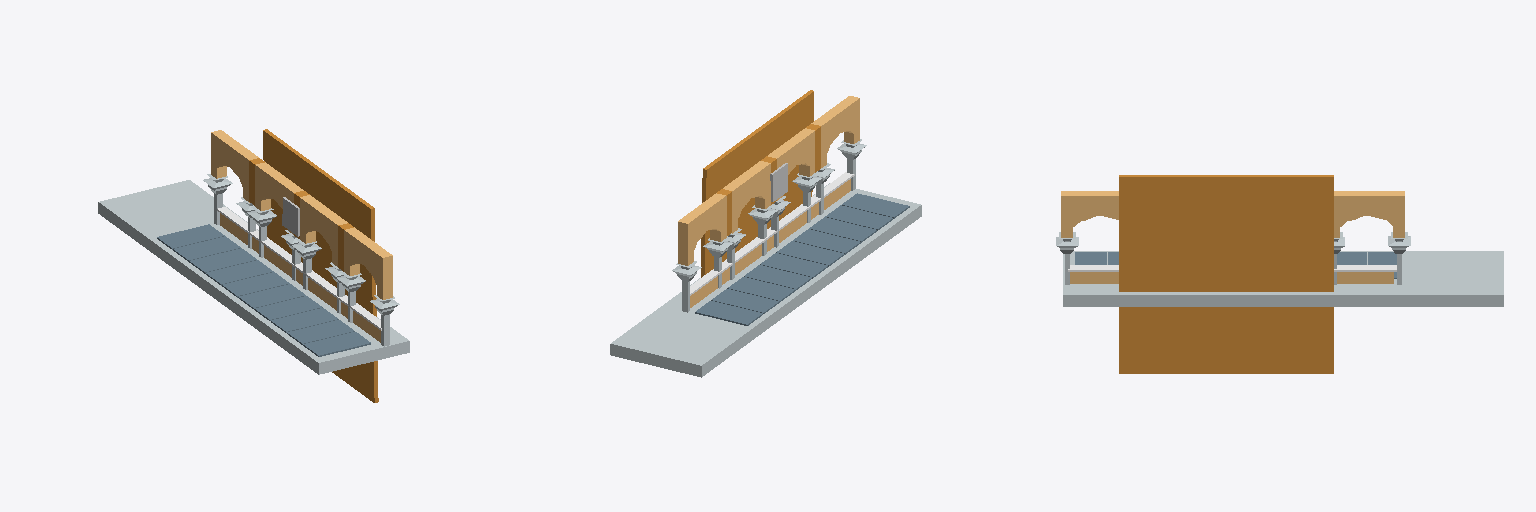
3 views of the same model, side by side, from view 1: azimuth 30°, elevation 25°; view 2: azimuth 150°, elevation 25°; view 3: azimuth 270°, elevation 25° (orthographic).
Parts seen in each view (by area): view 1: Plane; view 2: Plane; view 3: Plane.
Boxes of the visible parts, x1,y1,x2,y2 form: Plane: [98, 129, 409, 402]; Plane: [610, 90, 921, 377]; Plane: [1056, 175, 1503, 373].
Size of the model in its own units: 0.9759 by 2 by 4.15.
Materials: 7 (7 with a texture image).